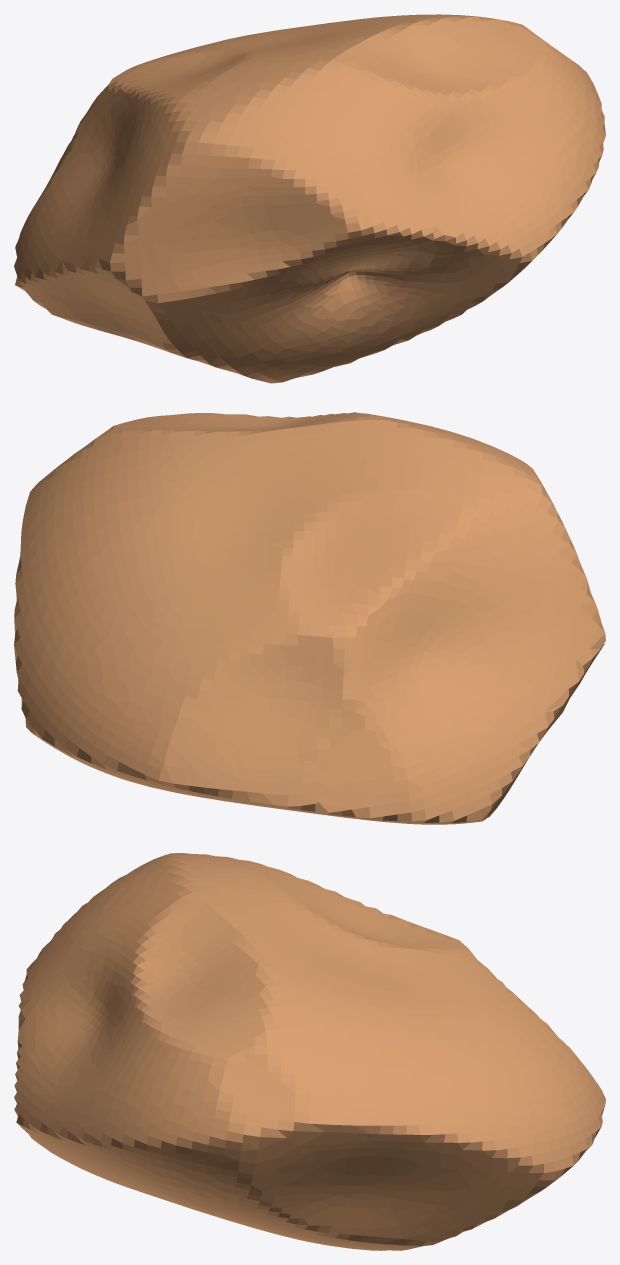
Rendered from Iron stone 1.fbx.
3 views of the same model, one above another, from view 1: azimuth 30°, elevation 25°; view 2: azimuth 150°, elevation 25°; view 3: azimuth 270°, elevation 25° (orthographic). The views are drawn at different scales.
Parts seen in each view (by area): view 1: Cube.008; view 2: Cube.008; view 3: Cube.008.
Boxes of the visible parts, left/top/right/bottom form: Cube.008: left=14, top=14, right=605, bottom=383; Cube.008: left=14, top=412, right=605, bottom=824; Cube.008: left=14, top=853, right=605, bottom=1250.
Bounding box in the file's own units: 29.08 × 17.48 × 28.6.
